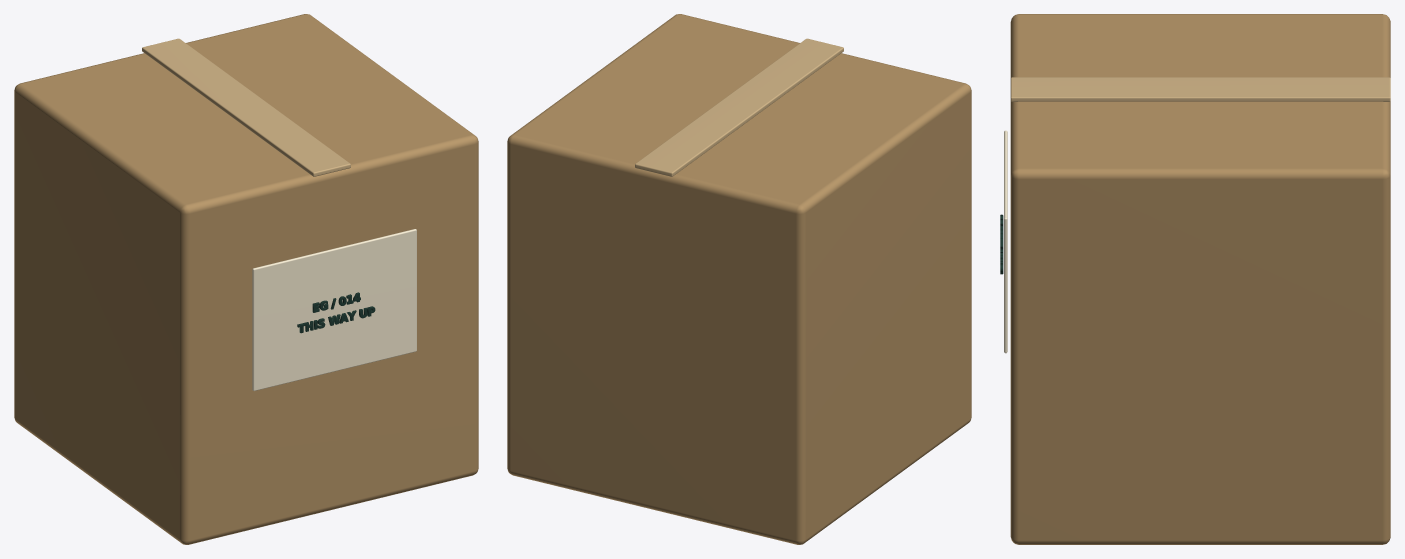
File: SM_EG_ShippingCarton_Yard_e4cae33c5b.fbx
3 renders of one model, left to right at view 1: azimuth 30°, elevation 25°; view 2: azimuth 150°, elevation 25°; view 3: azimuth 270°, elevation 25°, orthographic. The views are drawn at different scales.
Visible parts, largest first — view 1: SM_EG_ShippingCarton_Yard_e4cae33c5b; view 2: SM_EG_ShippingCarton_Yard_e4cae33c5b; view 3: SM_EG_ShippingCarton_Yard_e4cae33c5b.
Part boxes in pixels (box(x1,y1,x2,y2)): SM_EG_ShippingCarton_Yard_e4cae33c5b: box(14, 14, 478, 544); SM_EG_ShippingCarton_Yard_e4cae33c5b: box(507, 14, 971, 544); SM_EG_ShippingCarton_Yard_e4cae33c5b: box(1000, 14, 1390, 544).
Size of what is drawn, in the model's own units: 55 by 56.52 by 60.7.
